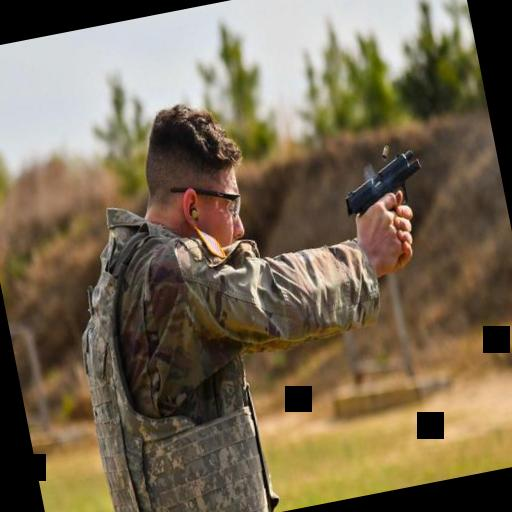Handgun: (336, 146, 432, 238)
